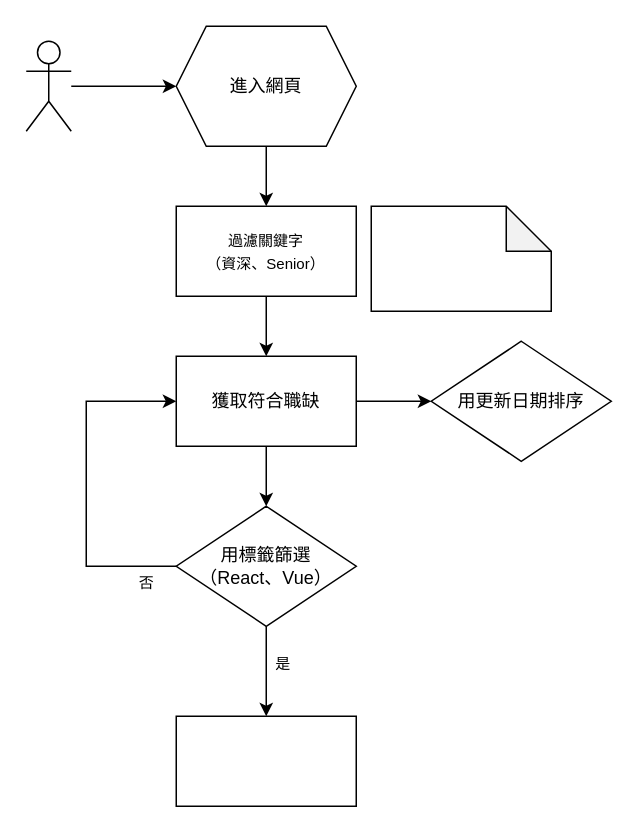
Some shapes in this 638 by 833 pixel diagram are drawn without their labels. The shapes that lost their labels are listed below. From the top down, each one's box as (x1, y1, x2, y2) in pixels, then its label:
(25, 40, 71, 131): User
(370, 205, 551, 311): 雙北 月薪40000+ 或面議 前端工程師 or 全端工程師
(175, 715, 356, 806): 獲取特定職缺
